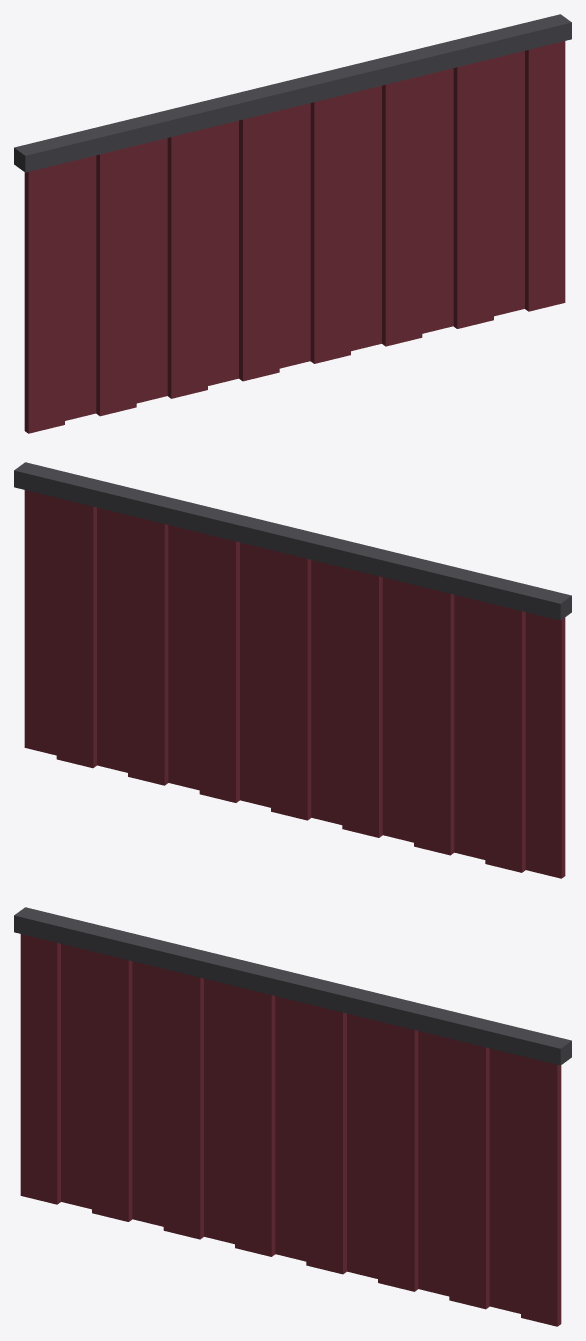
File: stage_curtain.glb
3 views of the same model, one above another, from view 1: azimuth 30°, elevation 25°; view 2: azimuth 150°, elevation 25°; view 3: azimuth 330°, elevation 25° (orthographic).
Parts seen in each view (by area): view 1: Stage Curtain; view 2: Stage Curtain; view 3: Stage Curtain.
Boxes of the visible parts, x1,y1,x2,y2 form: Stage Curtain: (14,14,571,433); Stage Curtain: (14,462,571,878); Stage Curtain: (14,907,571,1326).
Size of the model in its own units: 3.06 by 1.5 by 0.11.
